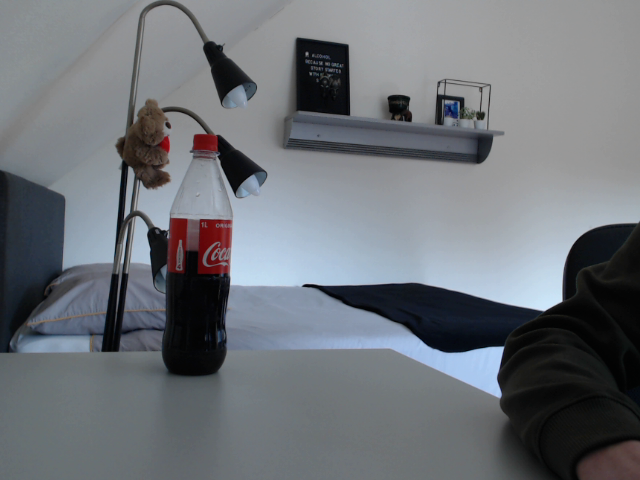bottle: (160, 134, 233, 377)
